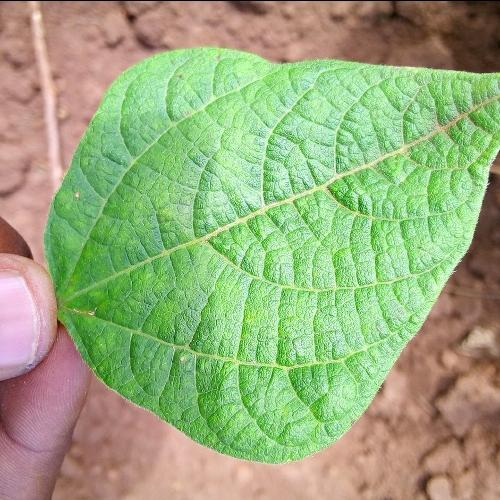hawar: (158, 324, 197, 377), (63, 284, 104, 318), (66, 180, 98, 208)
mozaik: (181, 78, 364, 337)
